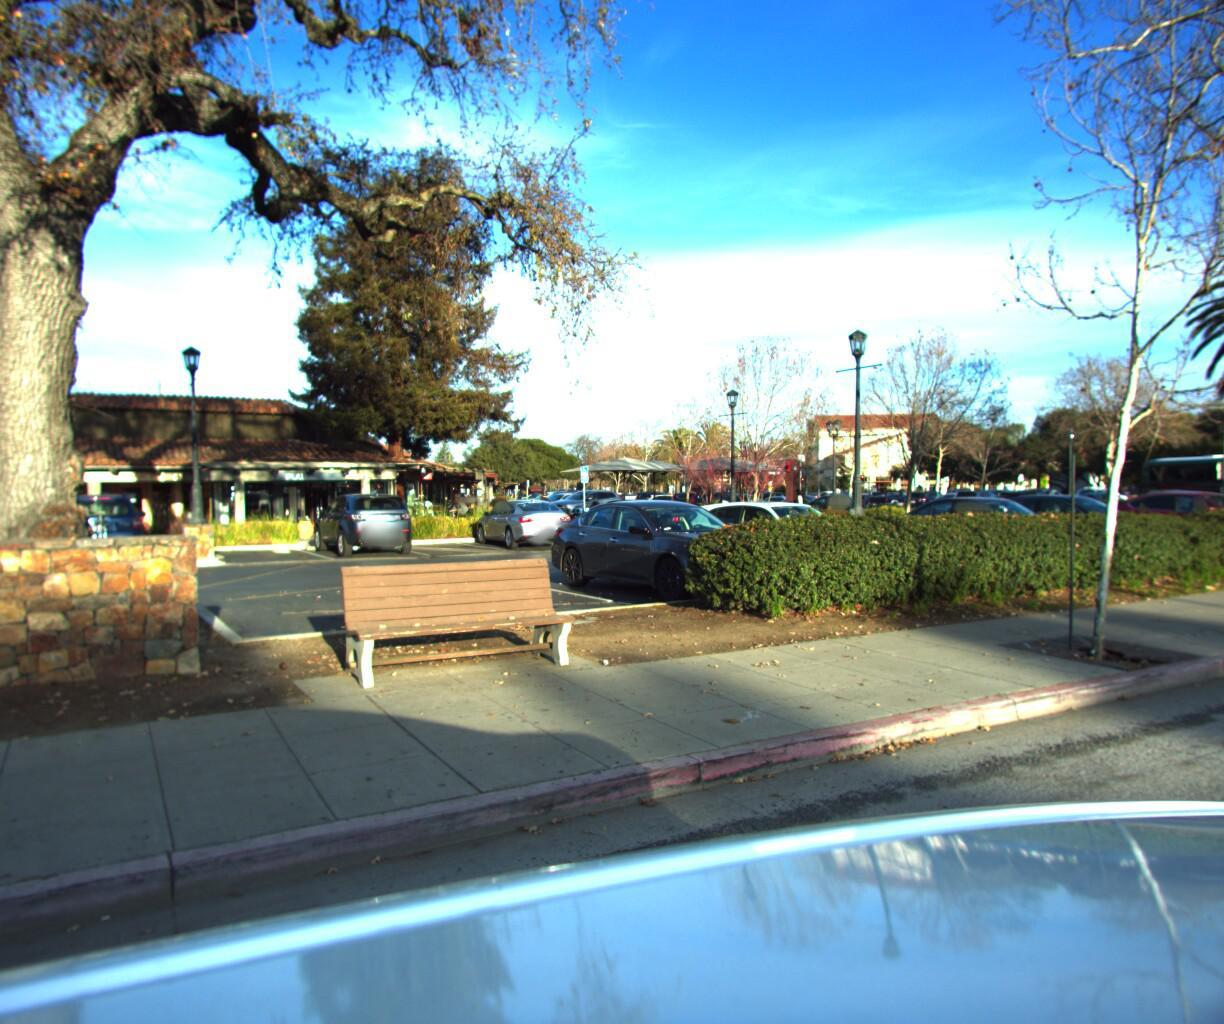bus: (1137, 439, 1224, 524)
car: (539, 493, 798, 611), (677, 495, 930, 597), (888, 490, 1113, 569), (954, 488, 1190, 563), (1087, 484, 1224, 556), (901, 485, 964, 513)
